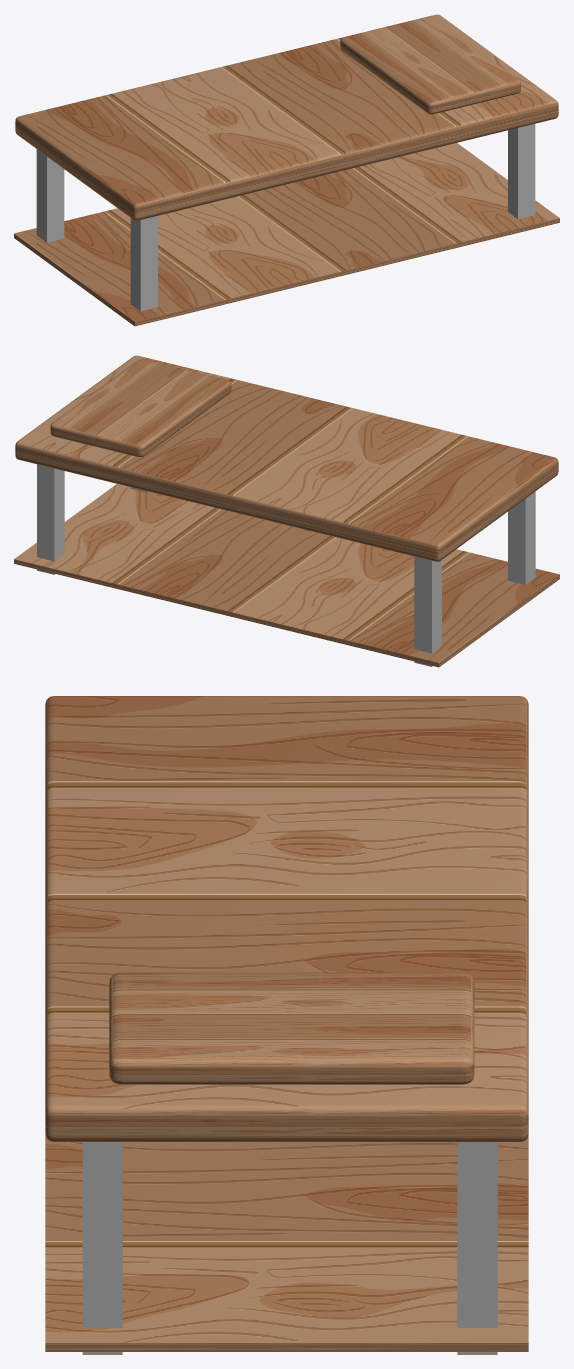
The model's file is table3.fbx.
The picture shows the model from 3 angles, top to bottom: view 1: azimuth 30°, elevation 25°; view 2: azimuth 150°, elevation 25°; view 3: azimuth 270°, elevation 25°; orthographic projection. The views are drawn at different scales.
Parts seen in each view (by area): view 1: Box024; view 2: Box024; view 3: Box024.
Boxes of the visible parts, x1=… form: Box024: x1=14, y1=14, x2=559, y2=326; Box024: x1=14, y1=355, x2=559, y2=667; Box024: x1=45, y1=696, x2=528, y2=1354.
Bounding box in the file's own units: 382 × 124 × 188.
